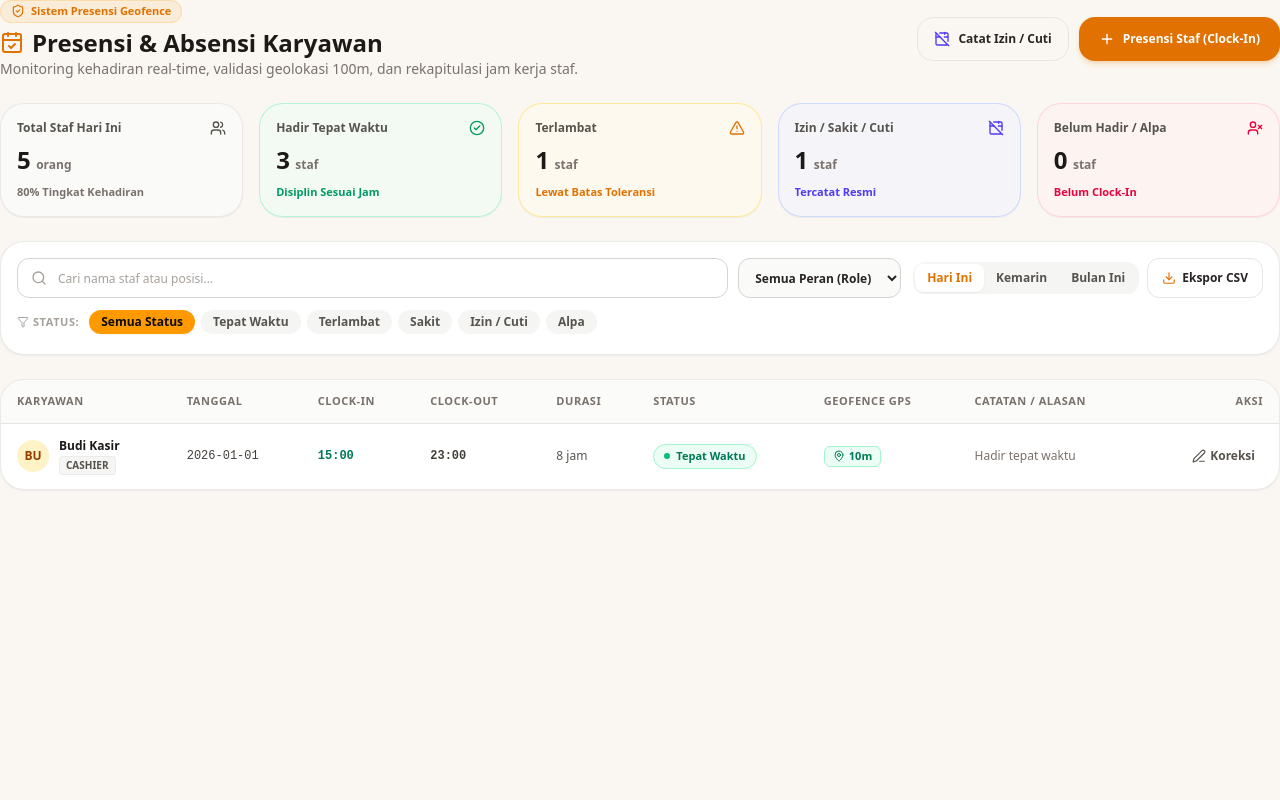
Scenario: AdminAttendancePage Component › opens Leave Request modal when Catat Izin button is clicked
Click the button "Catat Izin / Cuti" at (993,39), box [917,17,1069,61]
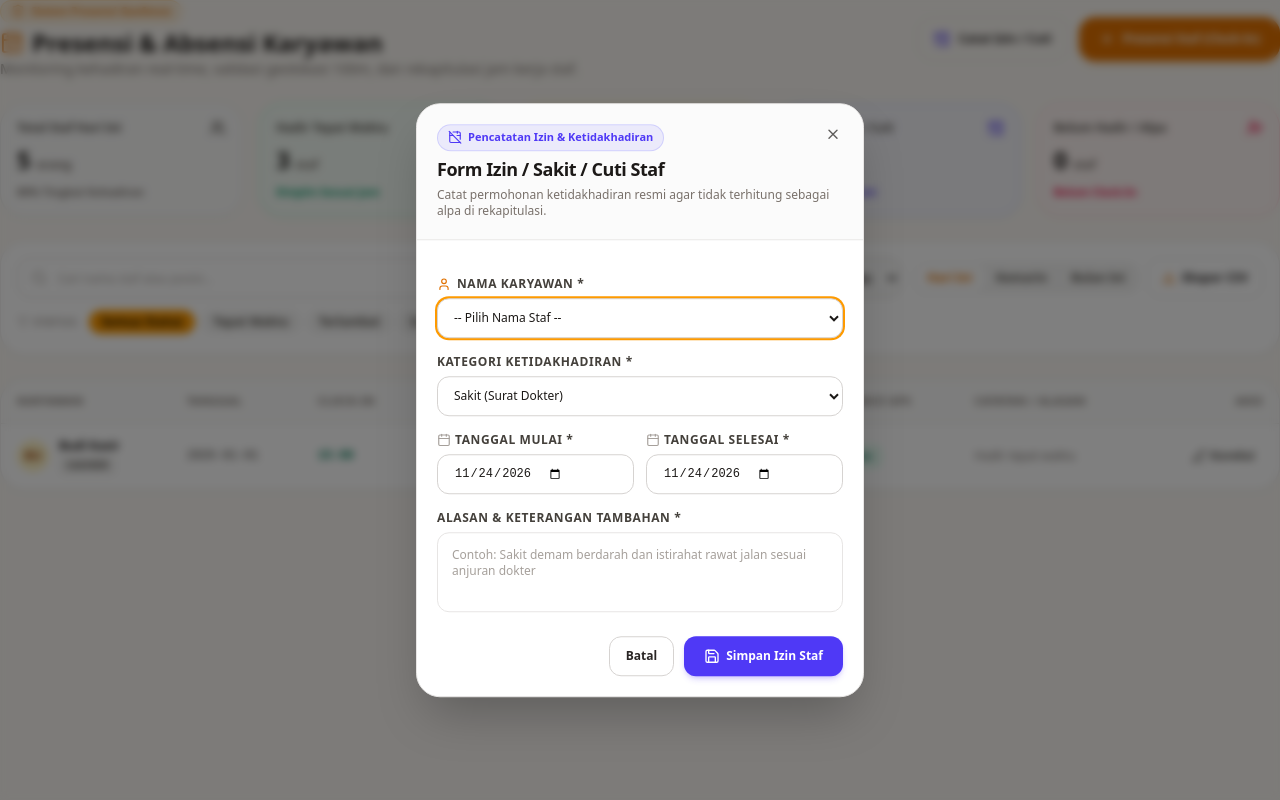
Expected: the heading "Form Izin / Sakit / Cuti Staf" is shown, [437,157,664,181]
